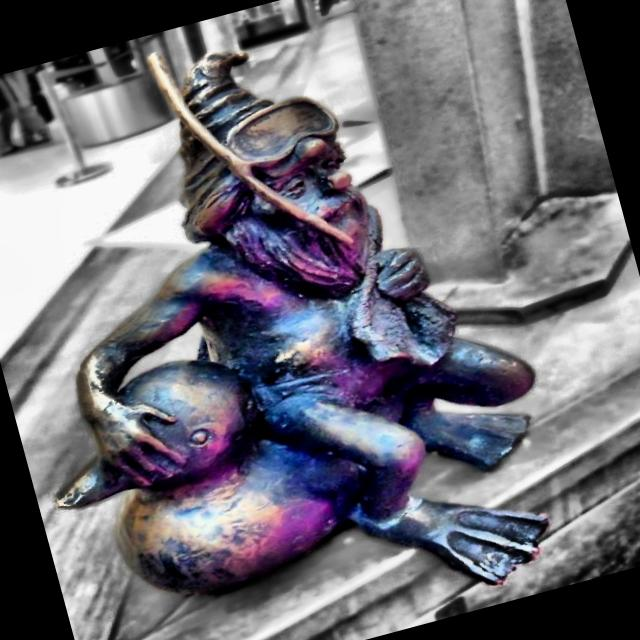Babelek_Chlaptus: (59, 53, 545, 591)
